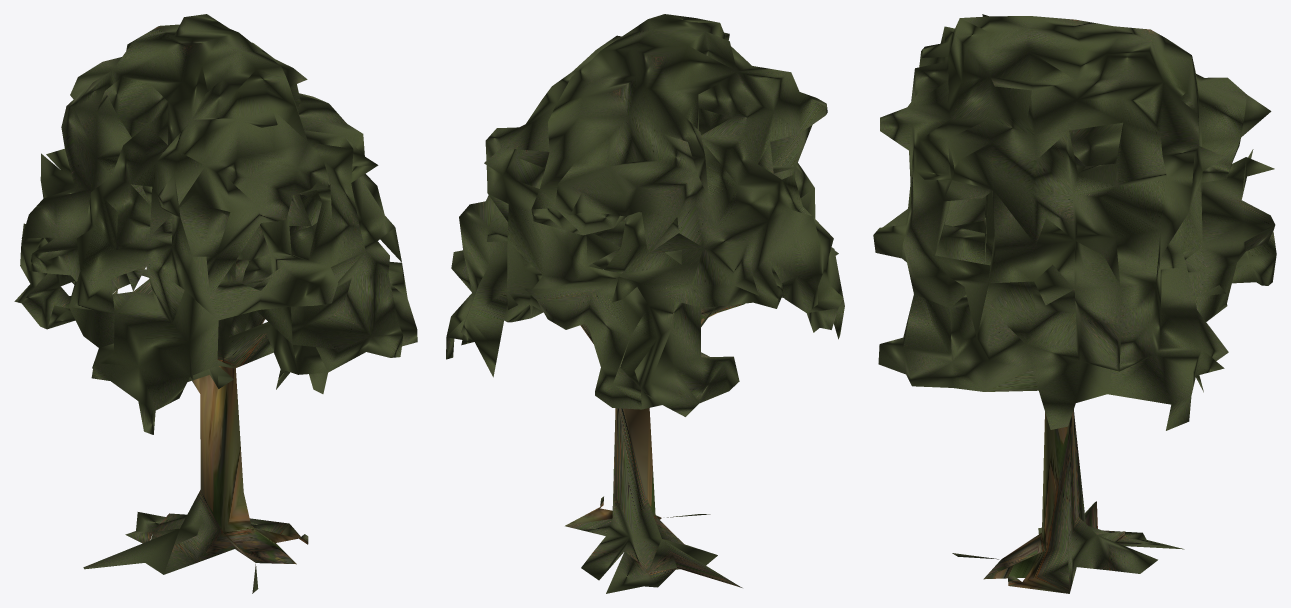
Rendered from broadleaf_tree_dark.glb.
The picture shows the model from 3 angles, left to right: view 1: azimuth 30°, elevation 25°; view 2: azimuth 150°, elevation 25°; view 3: azimuth 270°, elevation 25°; orthographic projection. The views are drawn at different scales.
Bounding box in the file's own units: 7.41 × 11 × 7.48.
1 material, 1 textured.
